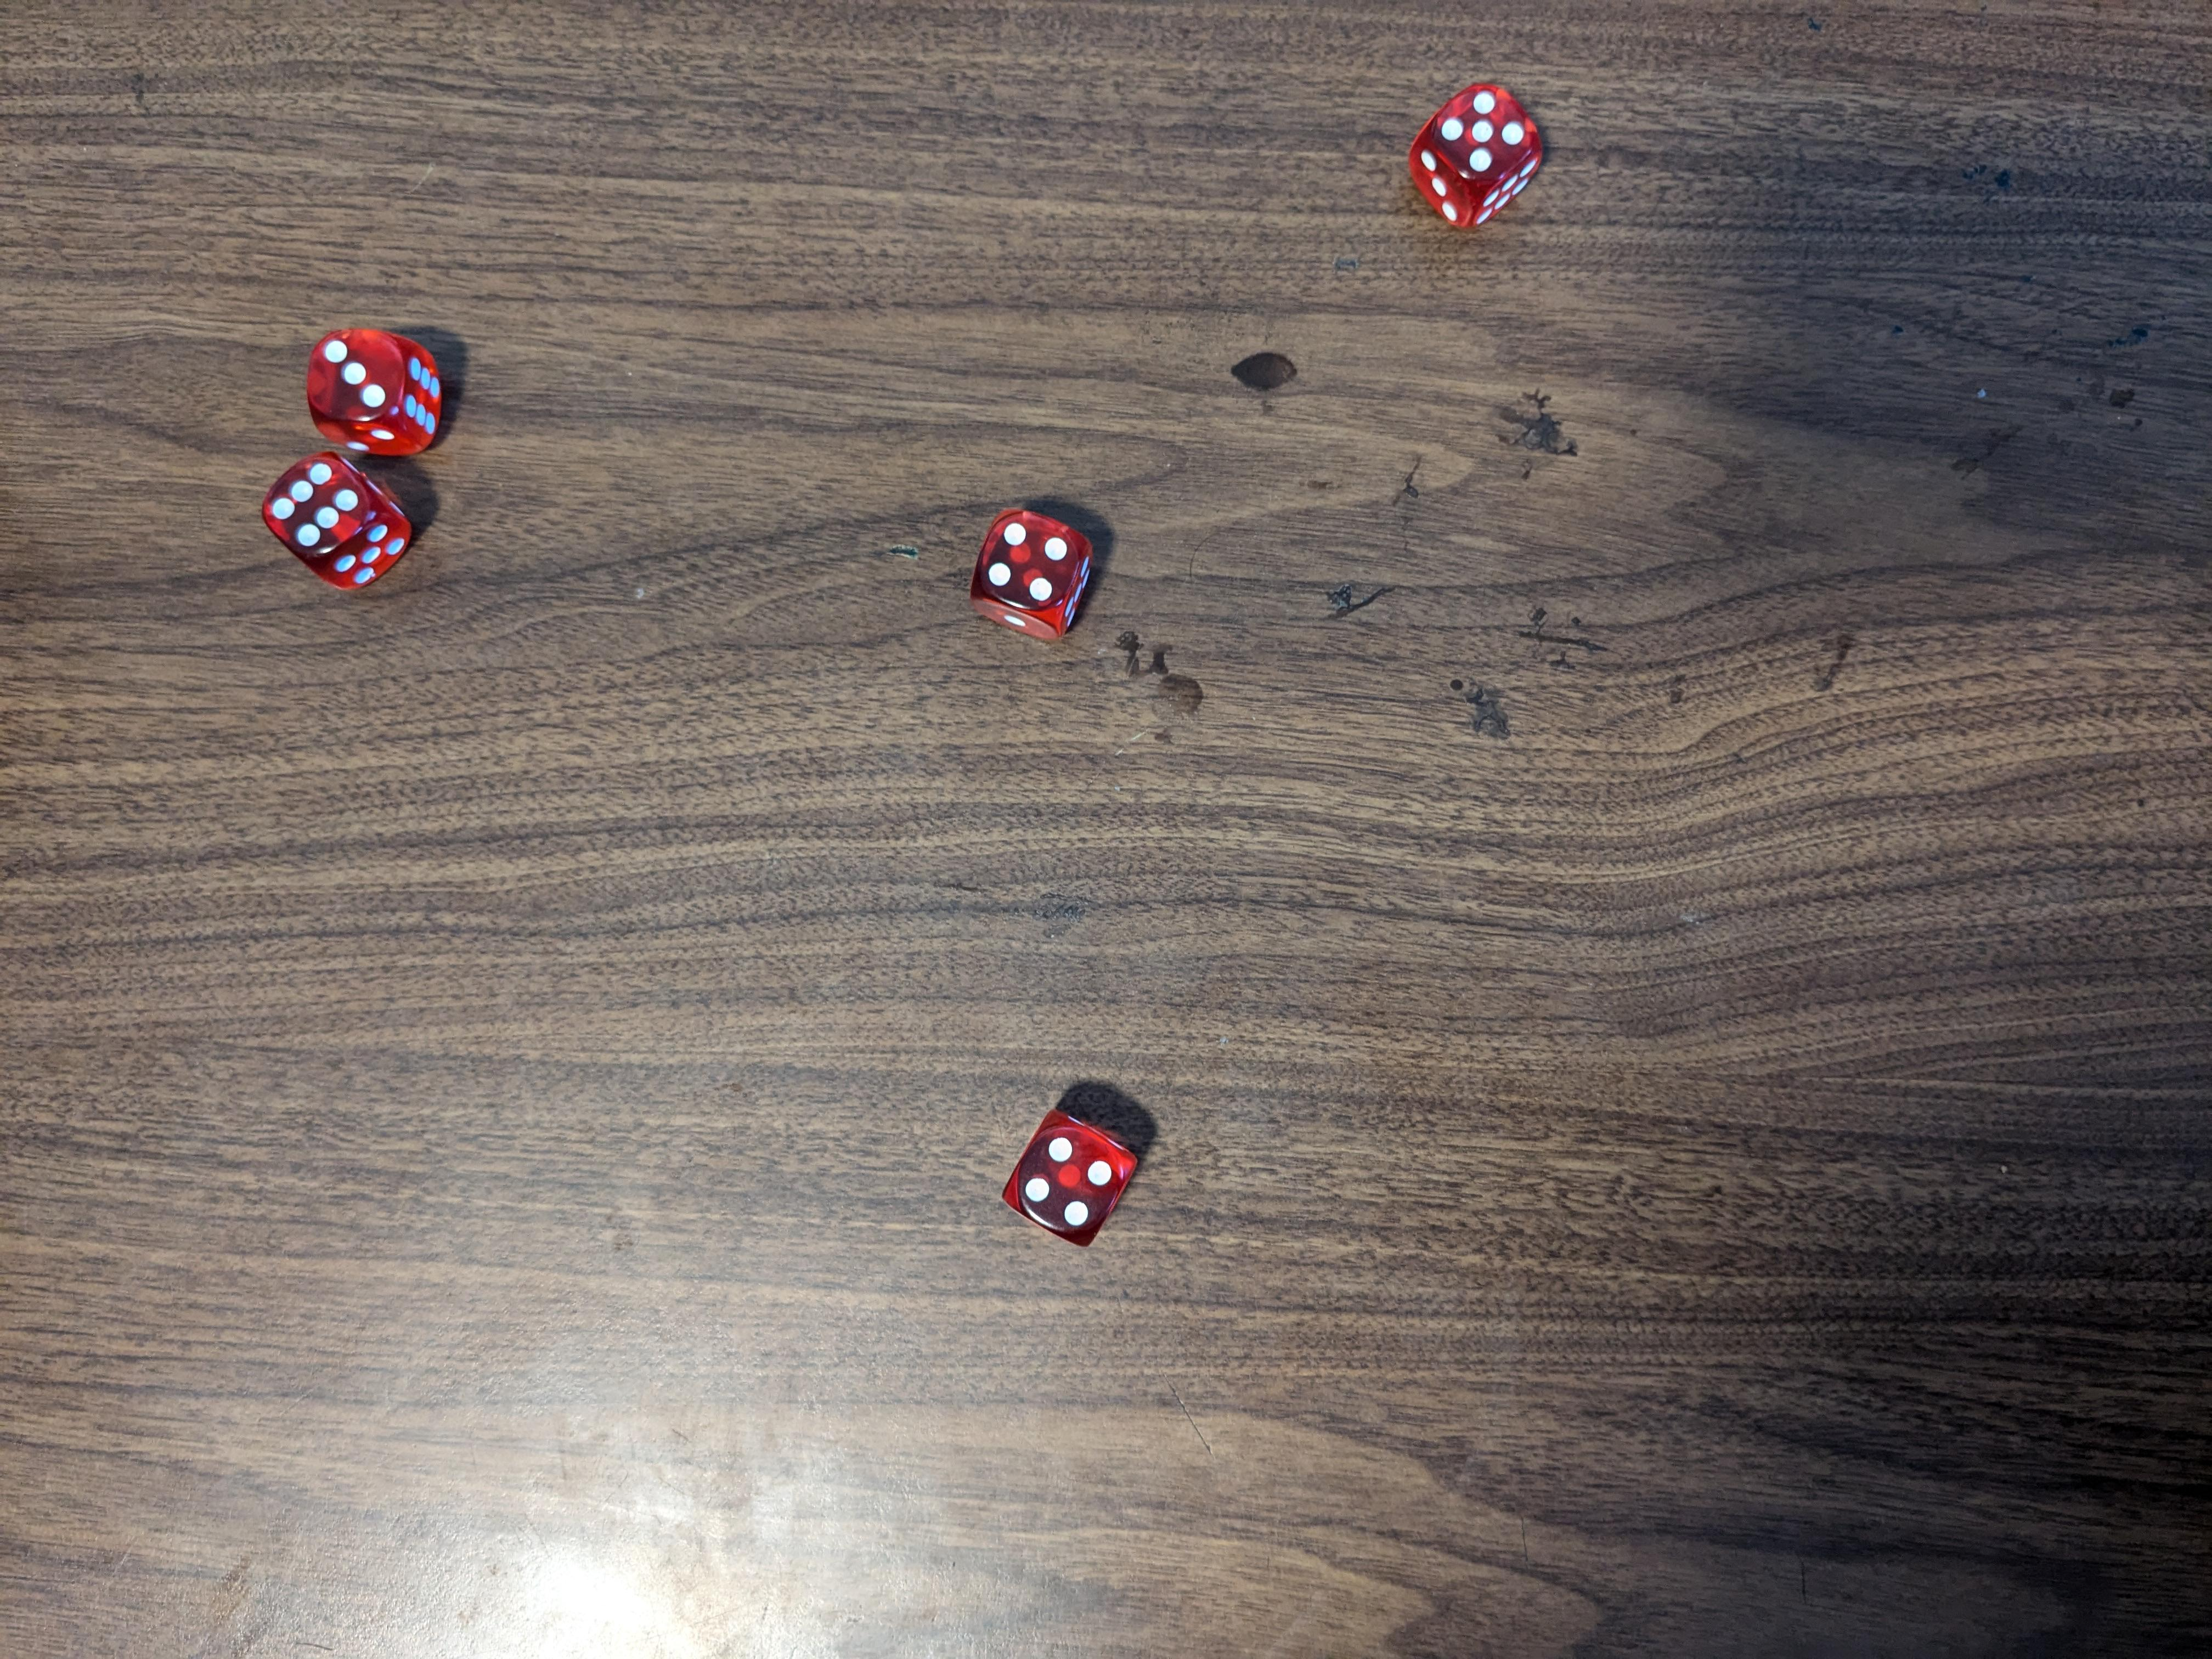five: (1406, 80, 1552, 225)
four: (970, 504, 1099, 652), (1000, 1119, 1143, 1246)
six: (254, 451, 415, 598)
three: (305, 326, 448, 464)
